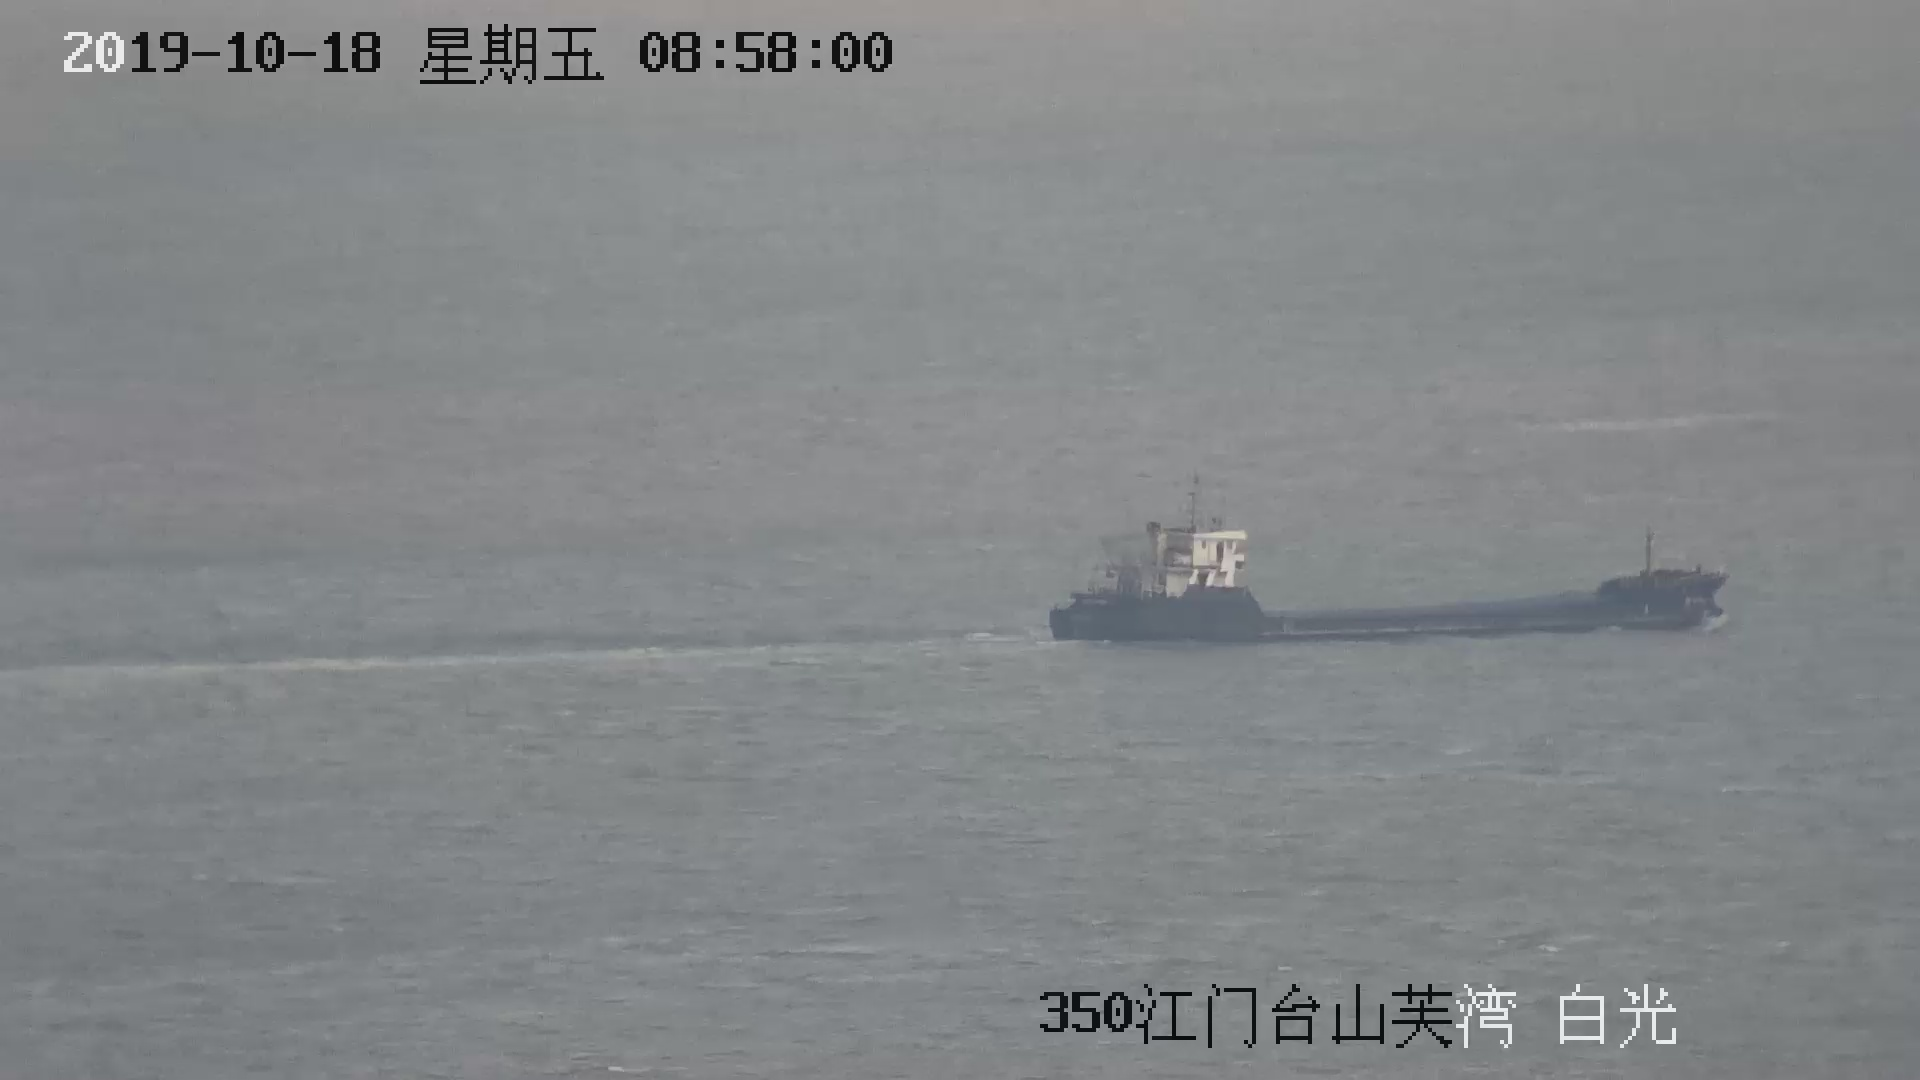ship: (1048, 491, 1726, 642)
